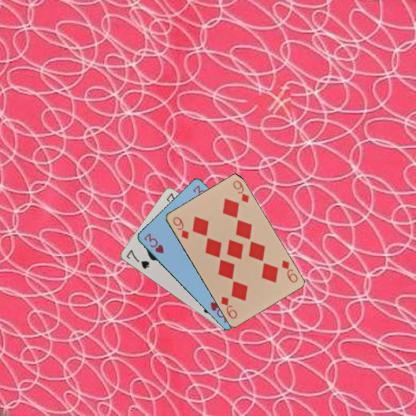3h: (141, 230, 167, 255)
7s: (124, 247, 150, 270)
9d: (278, 257, 298, 284), (170, 214, 190, 240)
